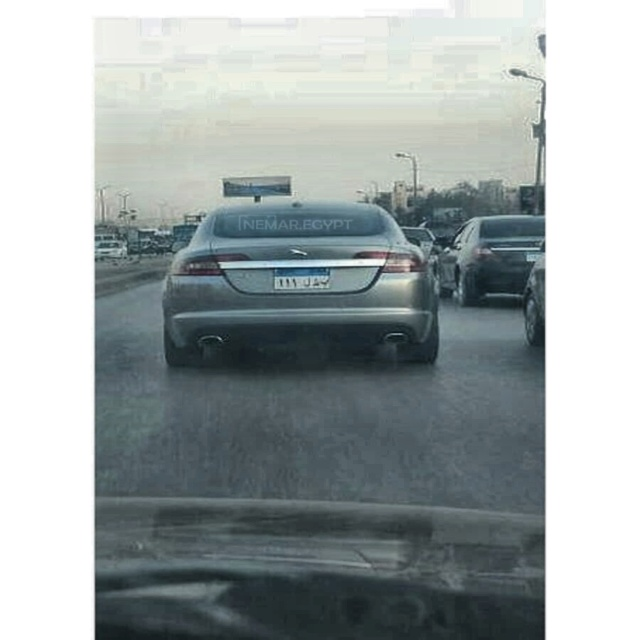License Plate: (272, 266, 332, 291)
